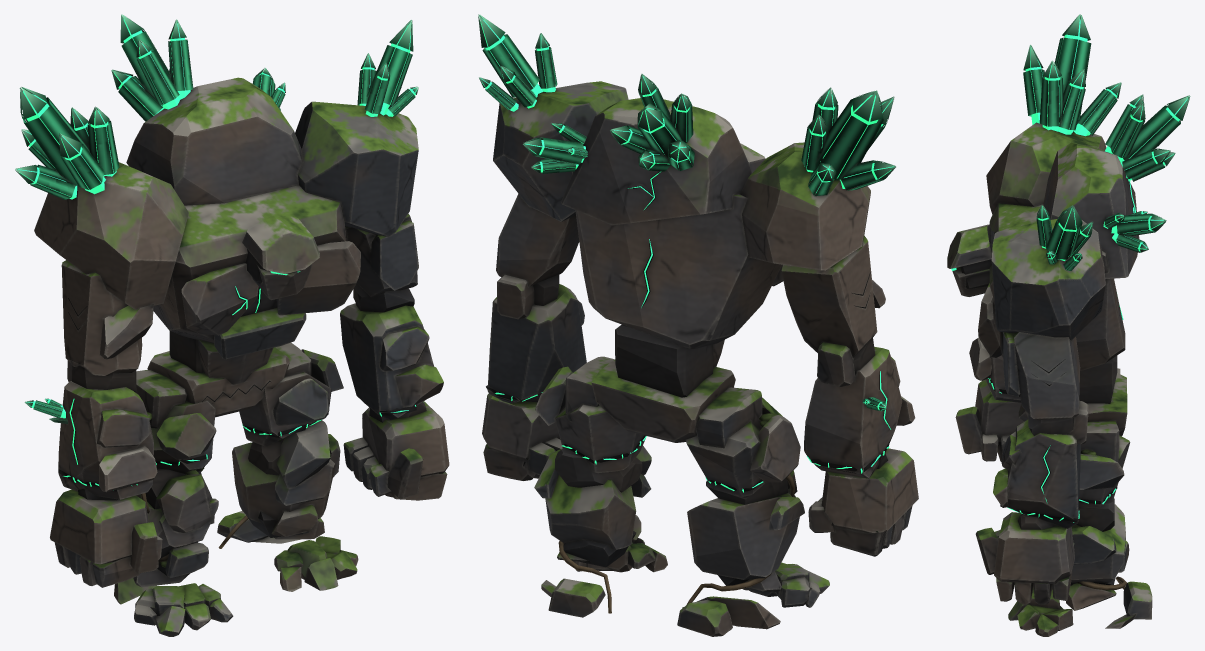
The model's file is golem.fbx.
The picture shows the model from 3 angles, left to right: view 1: azimuth 30°, elevation 25°; view 2: azimuth 150°, elevation 25°; view 3: azimuth 270°, elevation 25°; orthographic projection. The views are drawn at different scales.
Parts seen in each view (by area): view 1: Golem_Body, Golem_GLOW; view 2: Golem_Body, Golem_GLOW; view 3: Golem_Body, Golem_GLOW.
Boxes of the visible parts, bbox=[...] form: Golem_Body: bbox=[15, 14, 449, 636]; Golem_GLOW: bbox=[18, 18, 417, 486]; Golem_Body: bbox=[478, 14, 918, 636]; Golem_GLOW: bbox=[480, 19, 893, 492]; Golem_Body: bbox=[947, 14, 1190, 636]; Golem_GLOW: bbox=[951, 19, 1187, 522].
Size of the model in its own units: 7.74 by 9.9 by 4.51.
2 materials, 1 textured.
